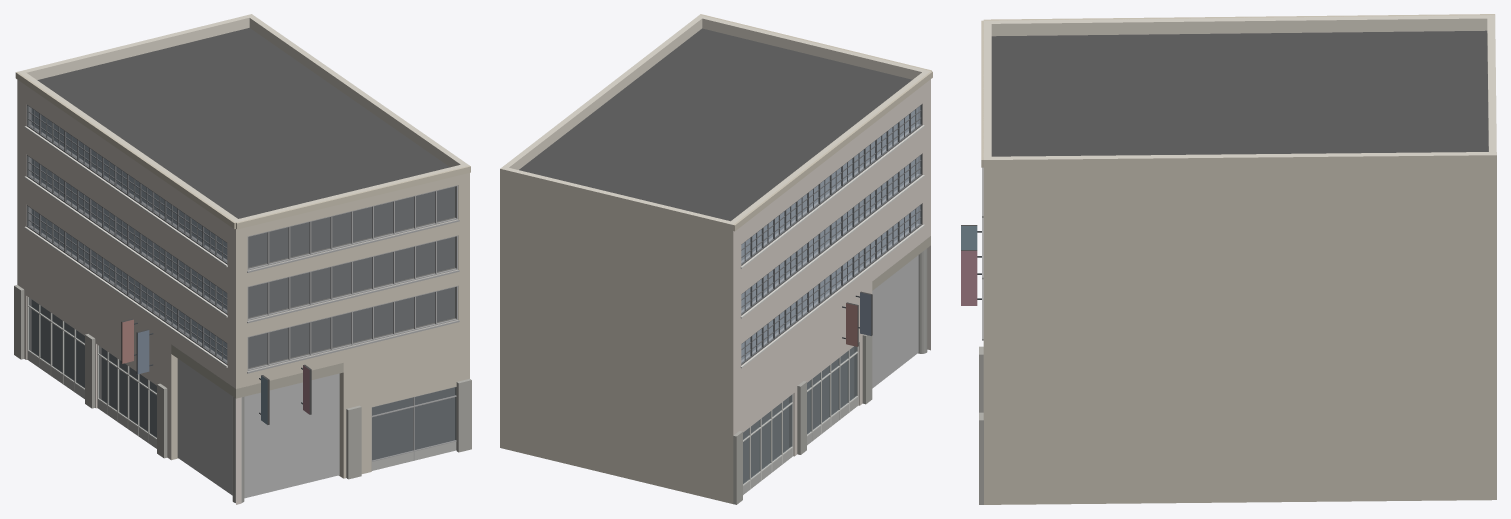
The model's file is exterior.glb.
3 renders of one model, left to right at view 1: azimuth 30°, elevation 25°; view 2: azimuth 150°, elevation 25°; view 3: azimuth 270°, elevation 25°, orthographic. The views are drawn at different scales.
Visible parts, largest first — view 1: shell, shadow-proxy, roof, glazing, frames, storefront, relief-2, relief-3, trim, rotunda-pilotis, blade-sign, rotunda-returns; view 2: shell, roof, shadow-proxy, glazing, frames, relief-2, storefront, trim, rotunda-pilotis, blade-sign; view 3: shell, roof, blade-sign, relief-3, relief-2.
Part boxes in pixels (x1,y1,x2,y2): shell: [17, 14, 469, 504]; shadow-proxy: [32, 109, 454, 498]; roof: [37, 28, 449, 218]; glazing: [29, 106, 455, 460]; frames: [26, 104, 457, 370]; storefront: [27, 296, 456, 470]; relief-2: [14, 72, 235, 458]; relief-3: [236, 165, 471, 479]; trim: [24, 126, 459, 373]; rotunda-pilotis: [171, 344, 343, 502]; blade-sign: [121, 318, 311, 424]; rotunda-returns: [171, 354, 343, 478]; shell: [500, 15, 930, 503]; roof: [519, 28, 912, 221]; shadow-proxy: [741, 108, 918, 483]; glazing: [741, 106, 920, 484]; frames: [741, 104, 922, 365]; relief-2: [733, 71, 932, 504]; storefront: [743, 346, 858, 494]; trim: [740, 125, 924, 368]; rotunda-pilotis: [872, 236, 930, 353]; blade-sign: [842, 291, 872, 346]; shell: [983, 15, 1496, 504]; roof: [991, 30, 1488, 156]; blade-sign: [961, 225, 981, 305]; relief-3: [979, 20, 983, 504]; relief-2: [983, 14, 1495, 20].
Size of the model in its own units: 15.37 by 16.35 by 22.96.
